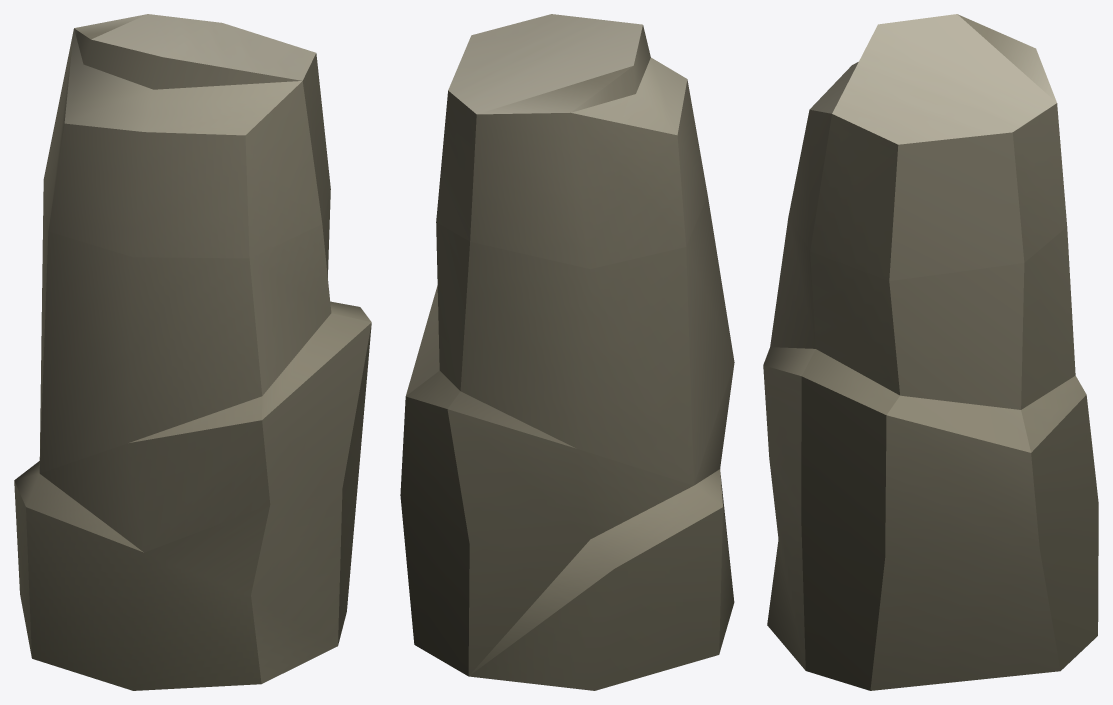
The model's file is orc_stone_pillar_big.fbx.
The picture shows the model from 3 angles, left to right: view 1: azimuth 30°, elevation 25°; view 2: azimuth 150°, elevation 25°; view 3: azimuth 270°, elevation 25°; orthographic projection. The views are drawn at different scales.
Visible parts, largest first — view 1: orc_stone_pillar_big; view 2: orc_stone_pillar_big; view 3: orc_stone_pillar_big.
Boxes of the visible parts, x1,y1,x2,y2 form: orc_stone_pillar_big: [14, 14, 371, 690]; orc_stone_pillar_big: [400, 14, 734, 690]; orc_stone_pillar_big: [763, 14, 1098, 690].
Bounding box in the file's own units: 193 × 353 × 185.
